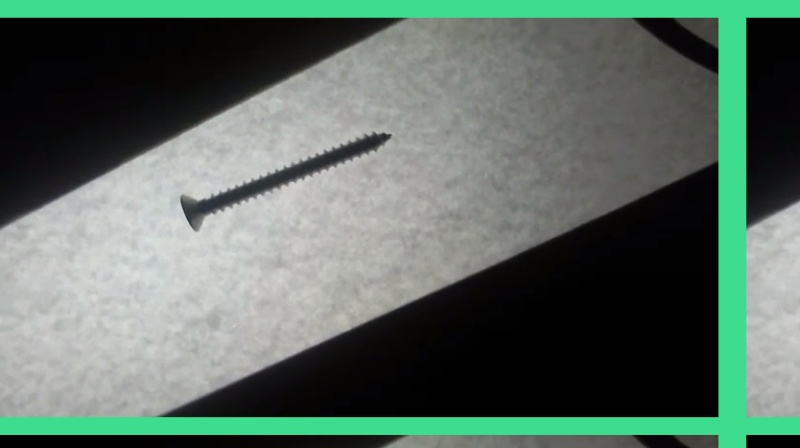S002: (173, 126, 395, 235)
